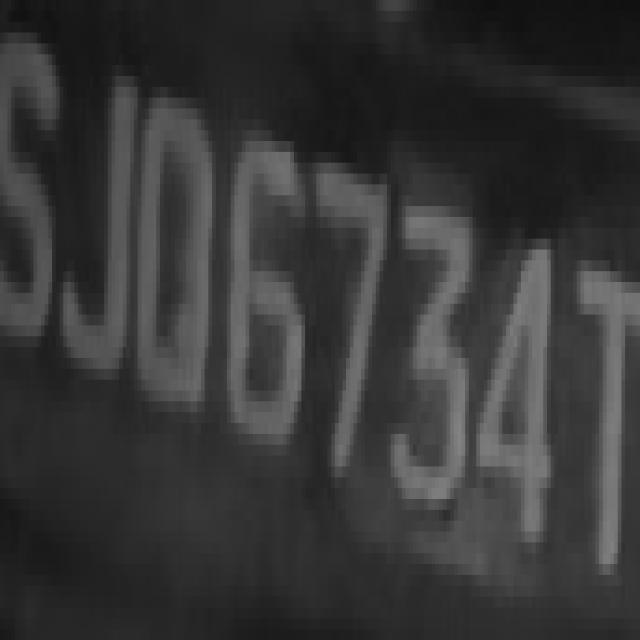3: (391, 152, 480, 564)
4: (476, 174, 562, 596)
6: (216, 76, 305, 521)
7: (301, 109, 387, 532)
J: (67, 11, 134, 434)
Q: (137, 55, 215, 478)
S: (7, 11, 67, 401)
T: (3, 4, 4, 10)
